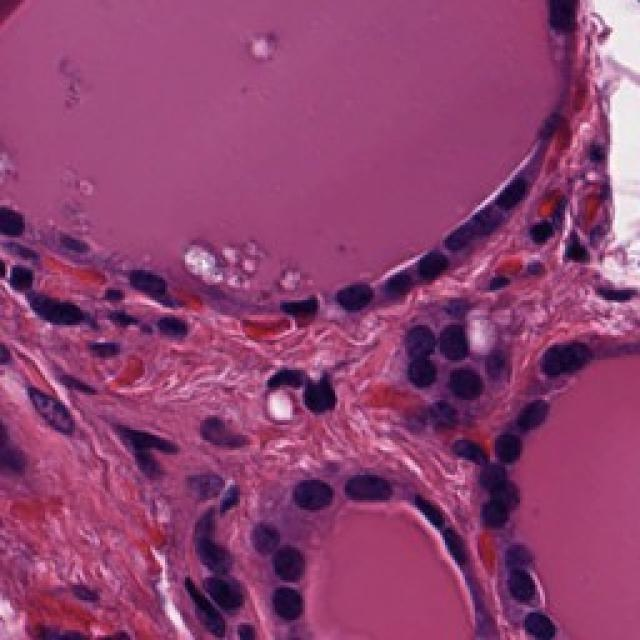normal: (332, 447, 415, 525), (267, 455, 350, 532), (458, 478, 525, 545), (322, 268, 380, 344), (490, 550, 550, 620), (256, 525, 321, 587), (485, 158, 538, 227), (0, 190, 55, 255), (508, 385, 565, 443), (112, 257, 176, 308), (430, 308, 482, 368), (245, 585, 318, 625), (414, 227, 454, 293)
